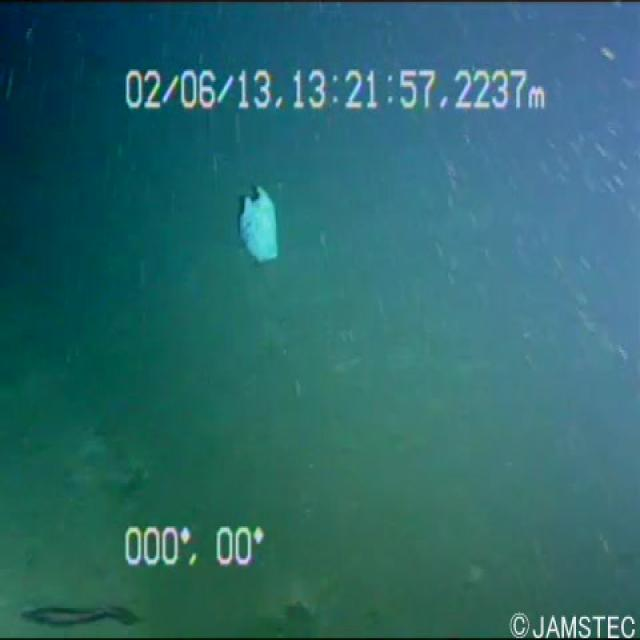plastic: (227, 176, 300, 288)
